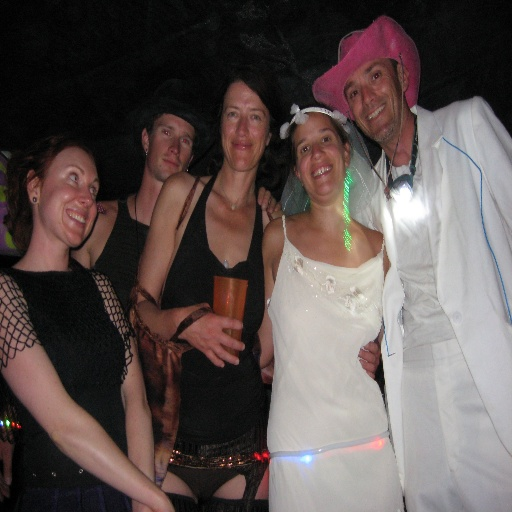hand: (191, 307, 238, 378), (358, 339, 381, 380), (257, 187, 282, 215), (153, 495, 176, 511)
